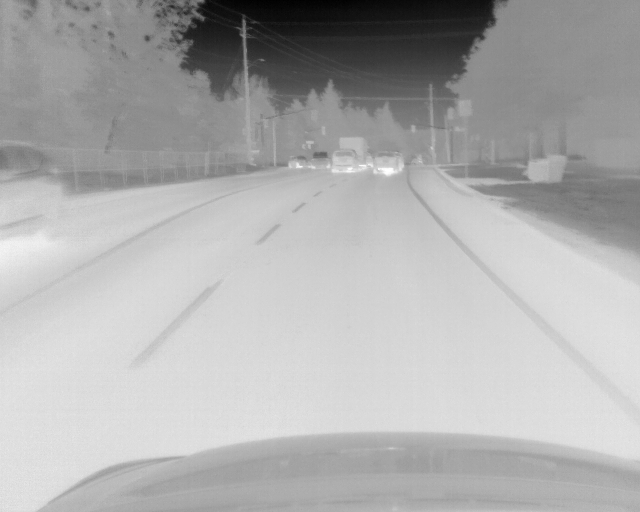car: (1, 142, 67, 244), (330, 136, 372, 173), (372, 150, 405, 175), (309, 150, 330, 170), (287, 156, 307, 169)
